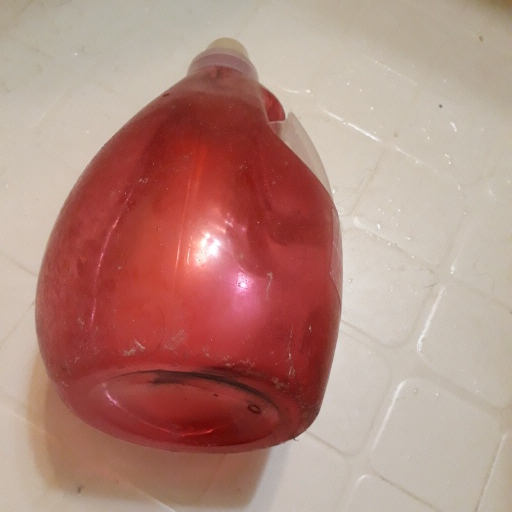Plastic_1: (36, 37, 343, 450)
